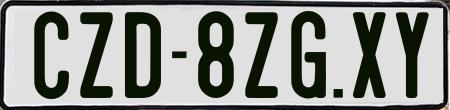8: (196, 10, 238, 97)
C: (33, 11, 73, 101)
D: (123, 9, 160, 100)
G: (291, 9, 332, 103)
X: (351, 9, 385, 96)
Y: (396, 9, 433, 95)
Z: (245, 11, 283, 101), (78, 10, 111, 97)
